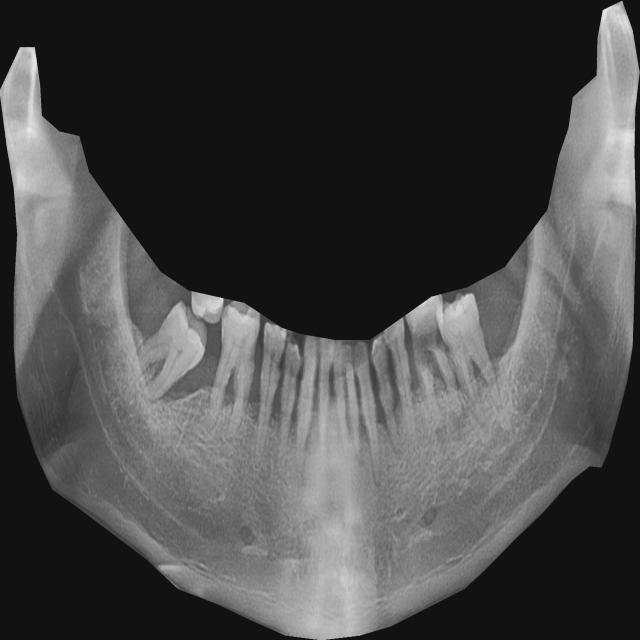mandibula: (0, 1, 640, 640)
